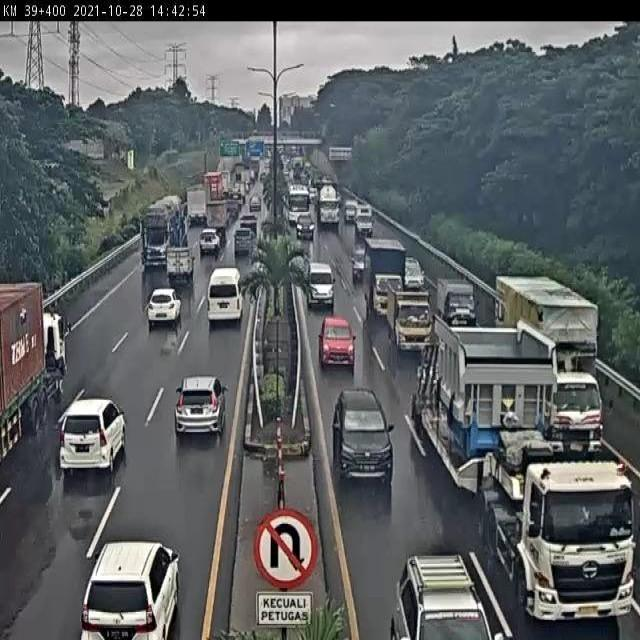big truck: (411, 316, 640, 640), (494, 276, 605, 455), (143, 192, 191, 261)
car: (81, 541, 181, 640), (333, 388, 396, 493), (58, 397, 128, 472), (174, 378, 228, 438), (207, 265, 246, 328), (318, 315, 358, 373), (305, 261, 337, 311), (147, 287, 181, 325), (166, 243, 195, 285)
small truck: (384, 277, 437, 355), (364, 233, 408, 324)
